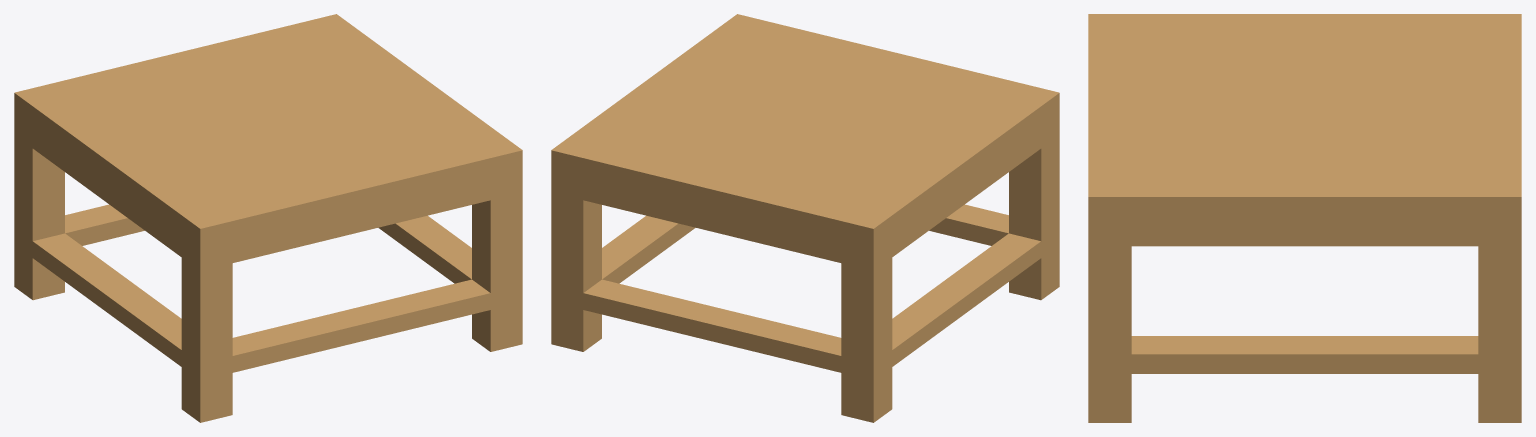
File: tableCoffeeSquare.glb
3 renders of one model, left to right at view 1: azimuth 30°, elevation 25°; view 2: azimuth 150°, elevation 25°; view 3: azimuth 270°, elevation 25°, orthographic. The views are drawn at different scales.
Size of the model in its own units: 4 by 2.3 by 4.
